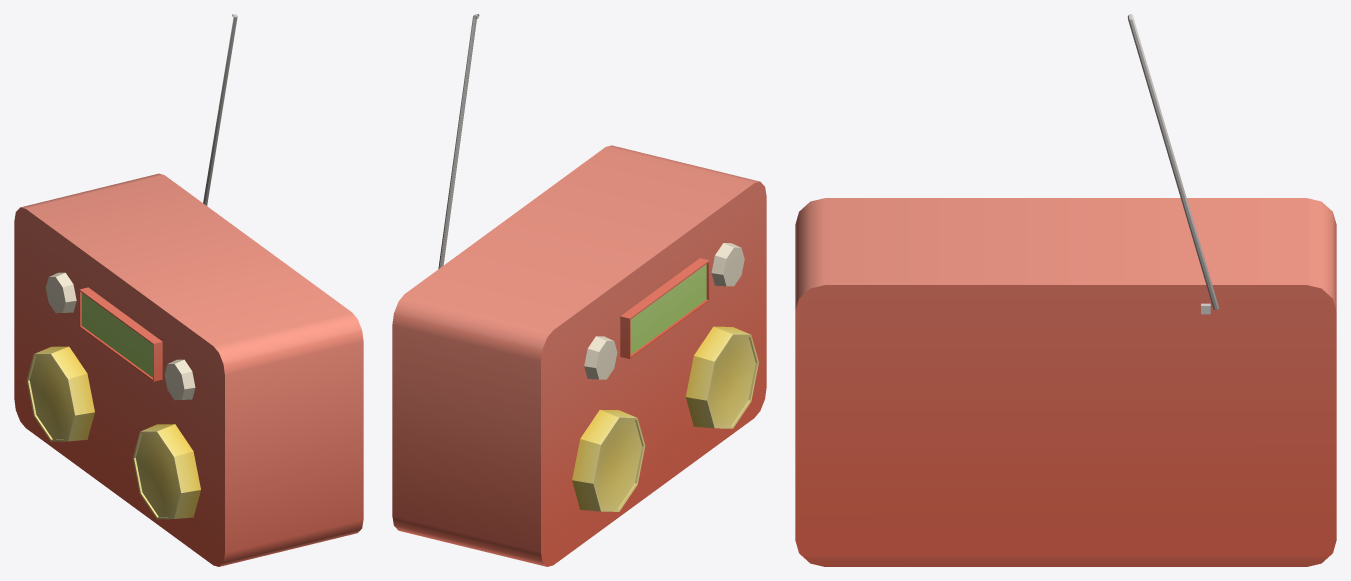
Rendered from radio.fbx.
3 renders of one model, left to right at view 1: azimuth 30°, elevation 25°; view 2: azimuth 150°, elevation 25°; view 3: azimuth 270°, elevation 25°, orthographic. The views are drawn at different scales.
Parts seen in each view (by area): view 1: radio; view 2: radio; view 3: radio.
Boxes of the visible parts, x1,y1,x2,y2 form: radio: (14, 14, 363, 566); radio: (392, 14, 766, 566); radio: (795, 14, 1336, 566).
Bounding box in the file's own units: 83.49 × 207 × 183.
